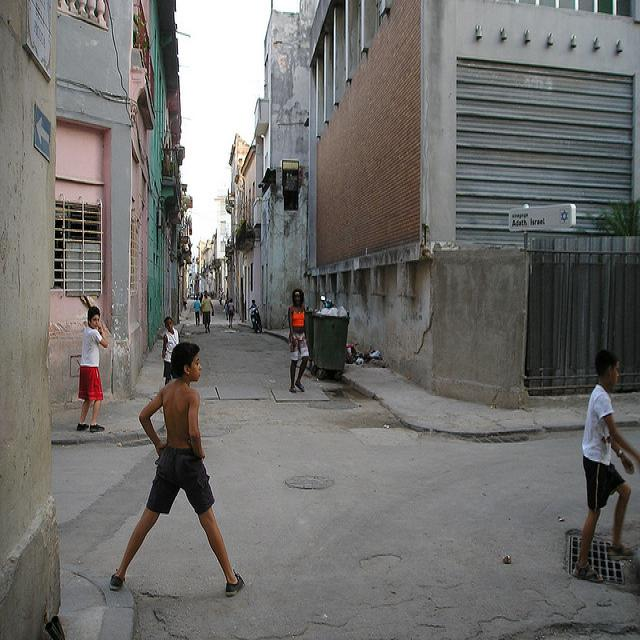motor: (249, 306, 263, 334)
